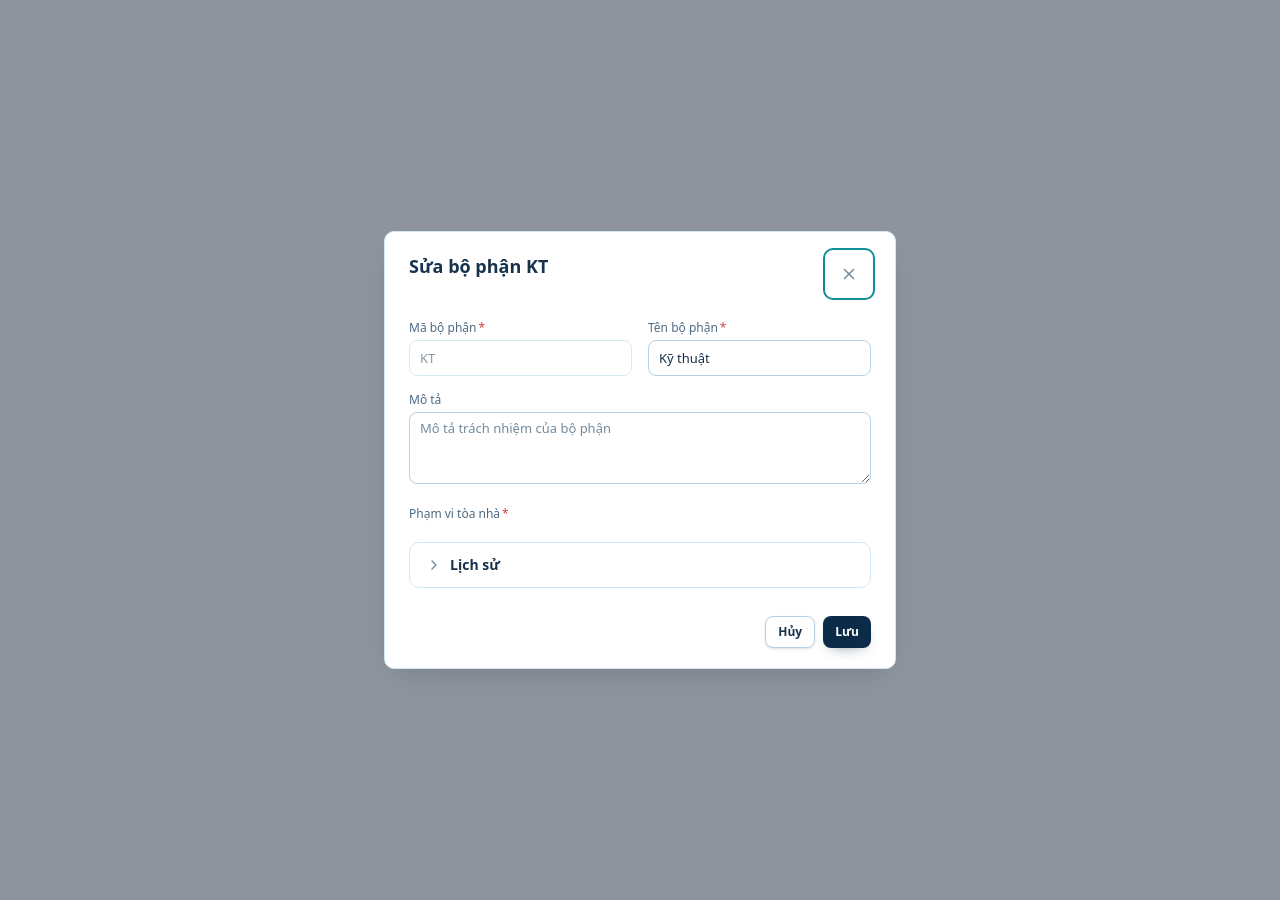
Test: Role and department history (AD-S1) › AC-10: the department dialog shows the empty state
Click the button "Lịch sử" at coordinates (475, 565), box [410,543,870,587]
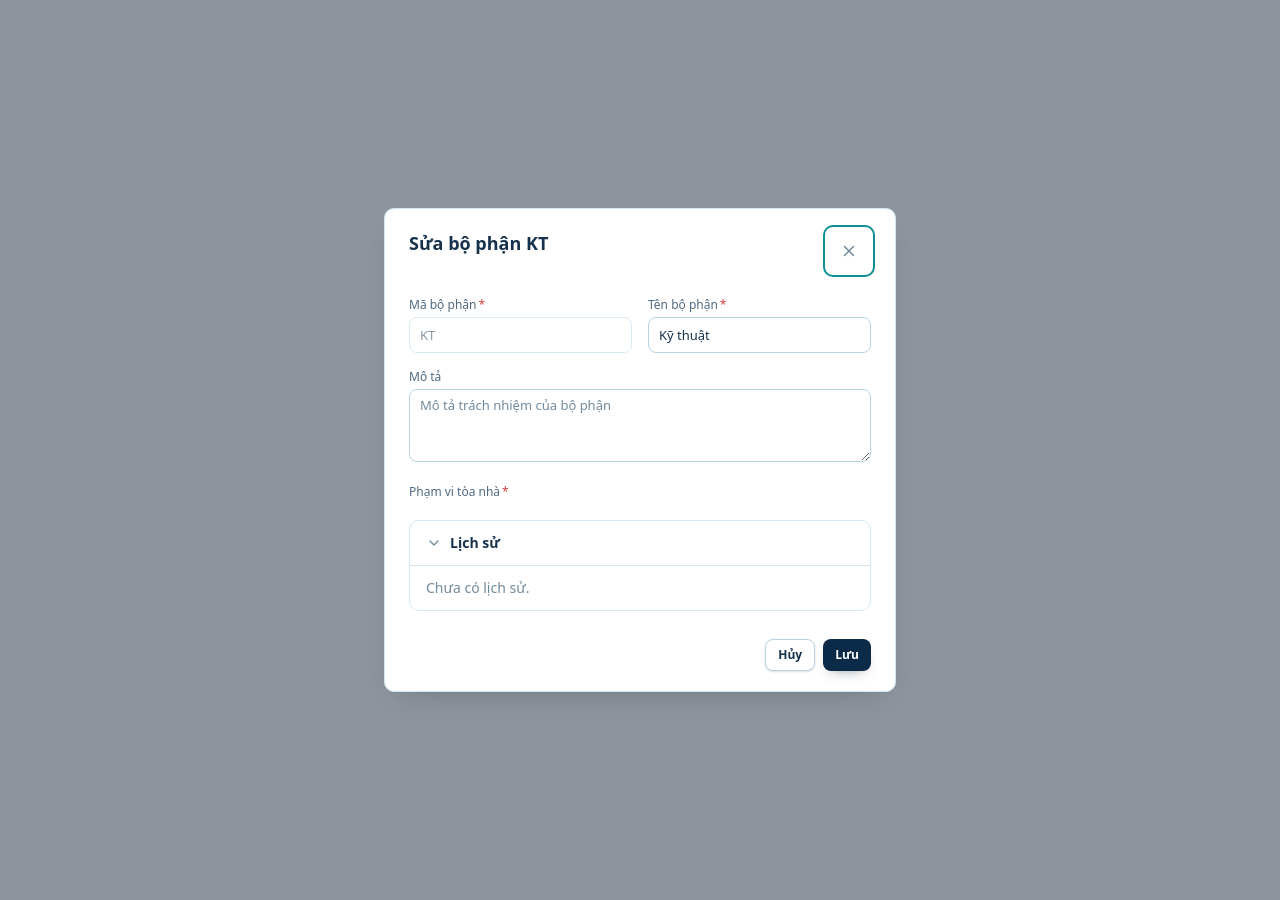
Expected: the text "Chưa có lịch sử." is shown, [426,578,529,597]
